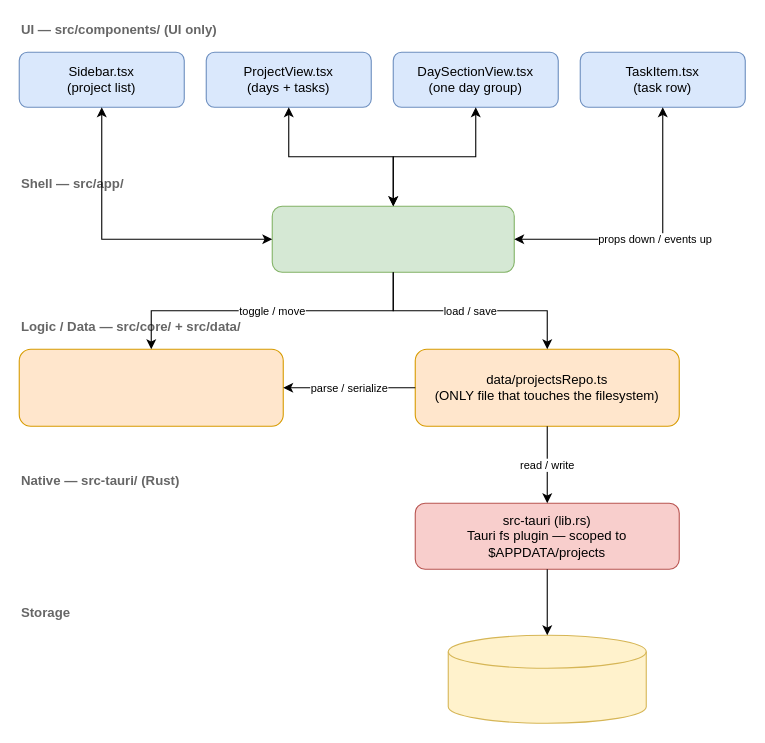
The diagram is 765 pixels wide and 743 high, and some of its shapes have lost their labels. Here are the shapes that lost their labels. From the top down, the centre of each, then its label:
point 392,238: App.tsx shell — owns projects + selectedId state
point 150,387: core/ frontmatter.ts, project.ts (pure logic: parse / serialize / toggle / move)
point 546,678: $APPDATA/projects/*.md (markdown = source of truth)
